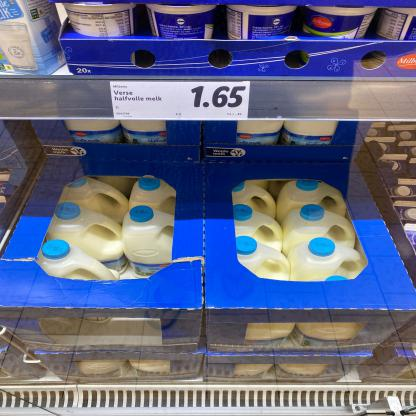prtg: (111, 82, 251, 120)
